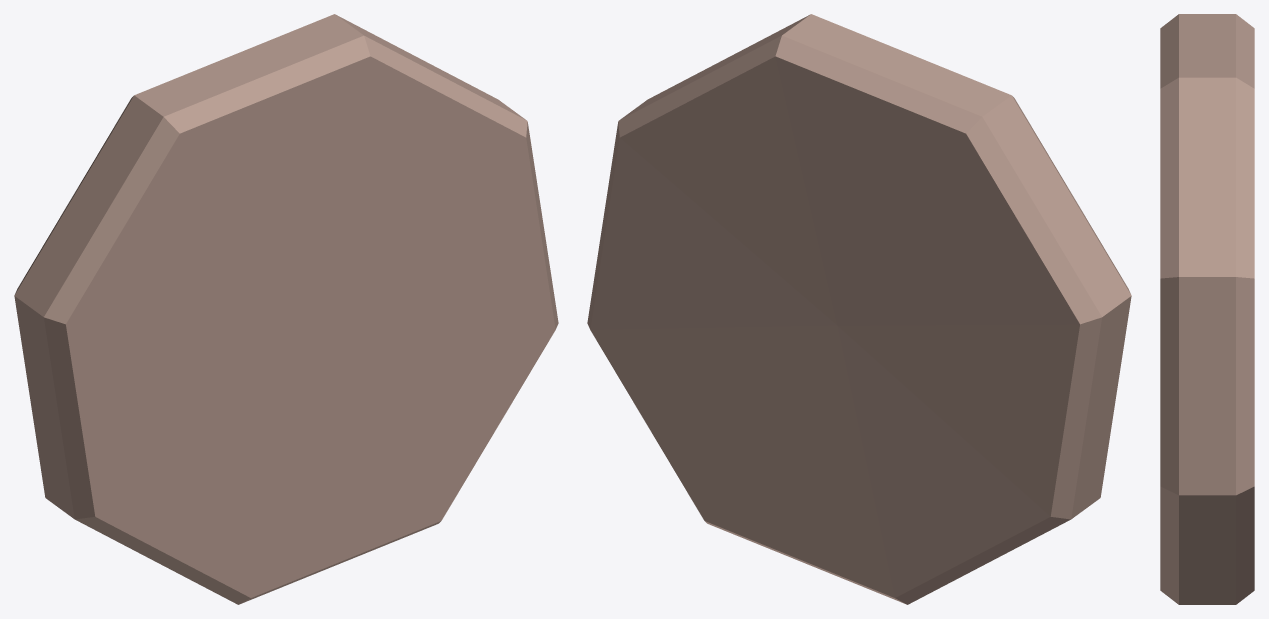
File: beefPatty.glb
The picture shows the model from 3 angles, left to right: view 1: azimuth 30°, elevation 25°; view 2: azimuth 150°, elevation 25°; view 3: azimuth 270°, elevation 25°; orthographic projection. The views are drawn at different scales.
Visible parts, largest first — view 1: buffer_0_mesh_0_prim4.481; view 2: buffer_0_mesh_0_prim4.481; view 3: buffer_0_mesh_0_prim4.481.
Boxes of the visible parts, x1,y1,x2,y2 form: buffer_0_mesh_0_prim4.481: [14, 14, 558, 604]; buffer_0_mesh_0_prim4.481: [587, 14, 1131, 604]; buffer_0_mesh_0_prim4.481: [1160, 14, 1254, 604].
Bounding box in the file's own units: 1.16 × 1.16 × 0.1893.
